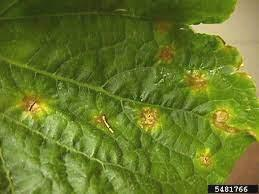Bok-Choy-Diseased: (0, 0, 243, 178)
